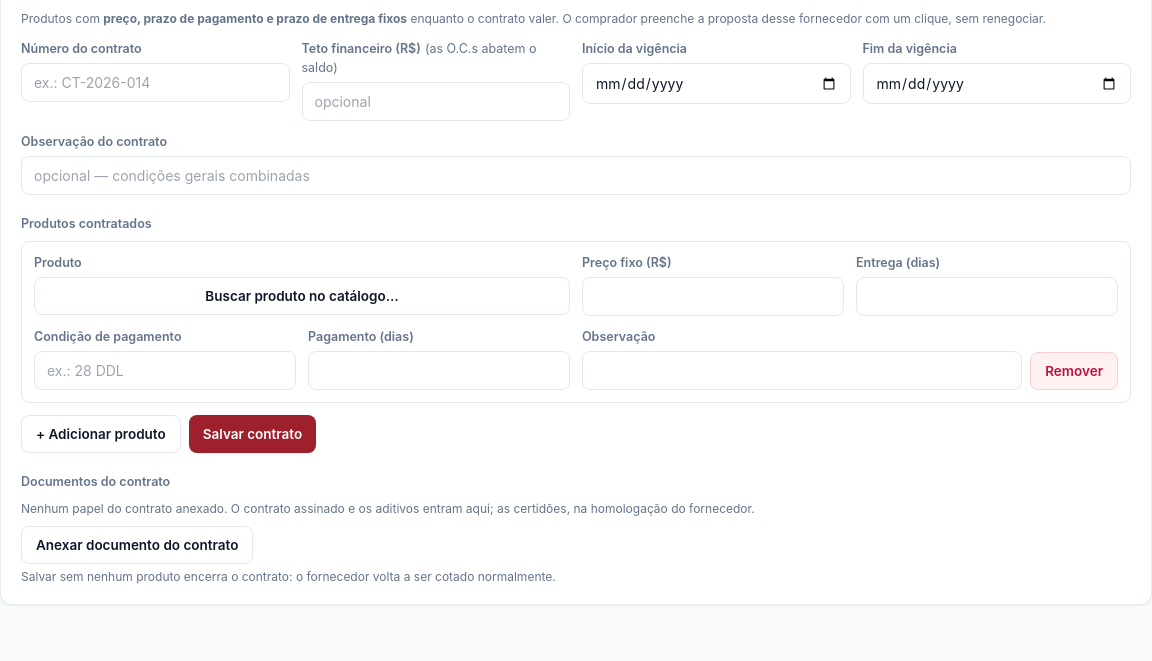
os papéis do contrato se anexam no próprio formulário › o formulário oferece anexar, mesmo num contrato que ainda não foi salvo
Expected: the text "Nenhum papel do contrato anexado" is shown, 21,501 -> 755,516
Click the button "Anexar documento do contrato": (137, 545) 21,526 -> 253,564
(page scrolled)
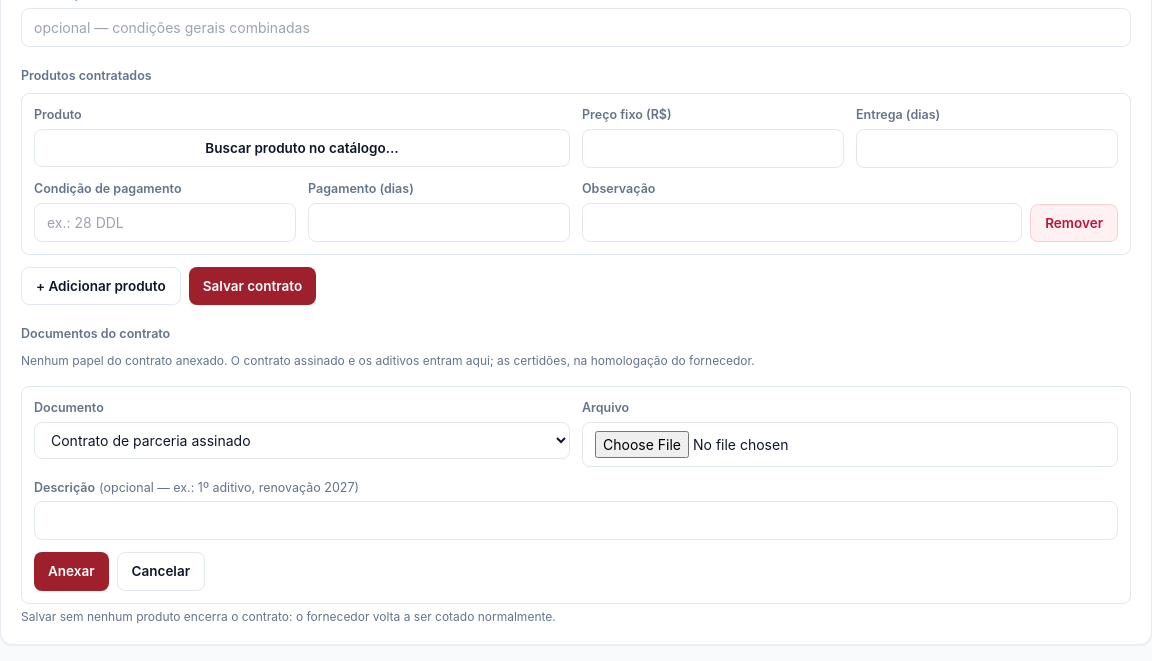
Expected: the element with test id "anexar-documento-contrato" is shown, 21,386 -> 1131,604
